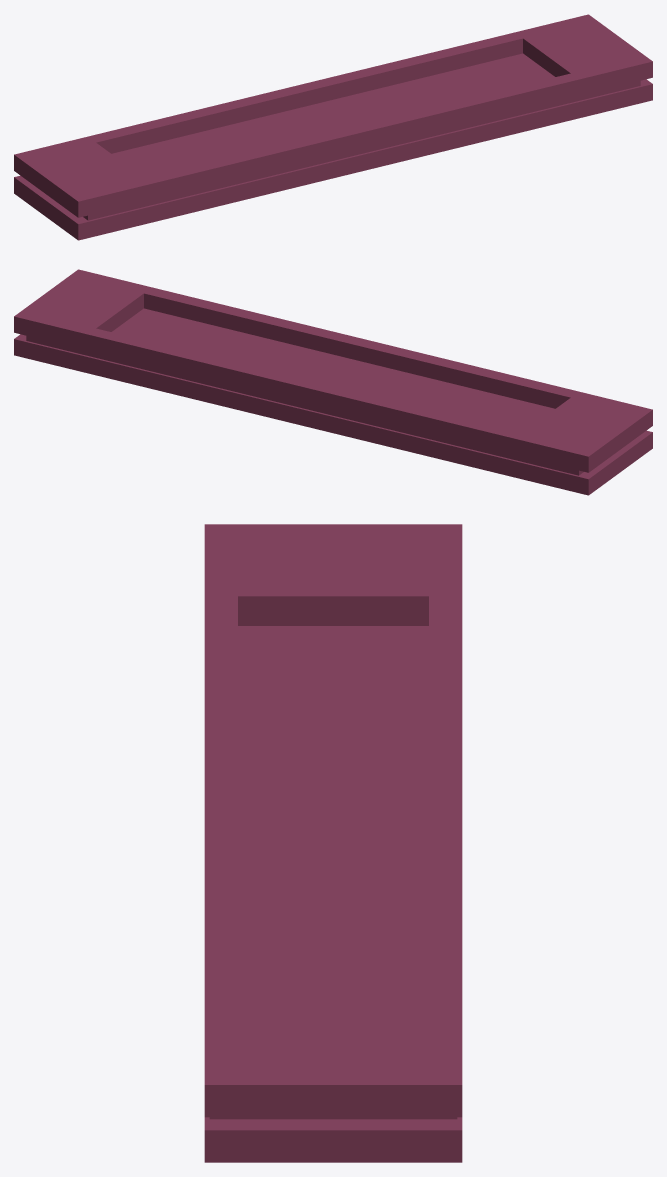
Rendered from wardrobe top.fbx.
3 renders of one model, top to bottom at view 1: azimuth 30°, elevation 25°; view 2: azimuth 150°, elevation 25°; view 3: azimuth 270°, elevation 25°, orthographic. The views are drawn at different scales.
Visible parts, largest first — view 1: Cube.012; view 2: Cube.012; view 3: Cube.012.
Part boxes in pixels (bbox=[...]): Cube.012: bbox=[14, 14, 652, 240]; Cube.012: bbox=[14, 269, 652, 495]; Cube.012: bbox=[204, 524, 462, 1162].
Size of the model in its own units: 309 by 20 by 60.
